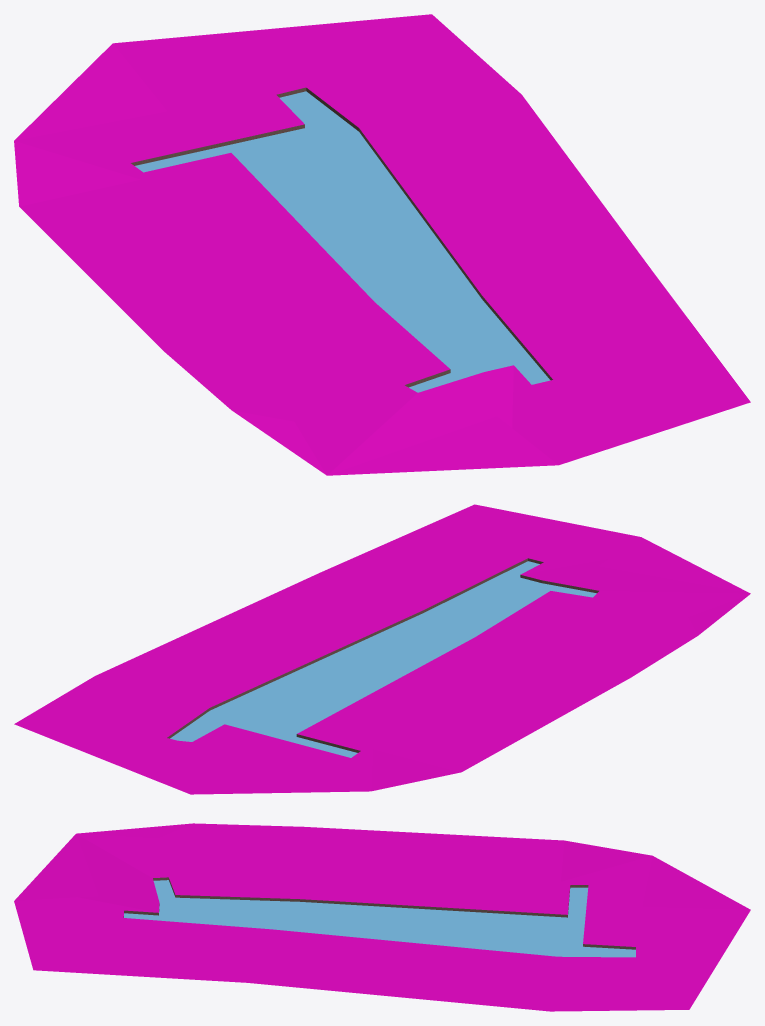
Rendered from laghetto-san-marco.glb.
The picture shows the model from 3 angles, top to bottom: view 1: azimuth 30°, elevation 25°; view 2: azimuth 150°, elevation 25°; view 3: azimuth 270°, elevation 25°; orthographic projection. The views are drawn at different scales.
Parts seen in each view (by area): view 1: Maschera_Holdout, Water, muretto; view 2: Maschera_Holdout, Water, muretto; view 3: Maschera_Holdout, Water, muretto.
Boxes of the visible parts, bbox=[...] form: Maschera_Holdout: bbox=[14, 14, 750, 475]; Water: bbox=[135, 91, 550, 392]; muretto: bbox=[131, 87, 552, 387]; Maschera_Holdout: bbox=[14, 504, 750, 794]; Water: bbox=[170, 561, 596, 757]; muretto: bbox=[167, 558, 598, 752]; Maschera_Holdout: bbox=[14, 823, 750, 1011]; Water: bbox=[124, 880, 635, 957]; muretto: bbox=[123, 877, 635, 949].
Size of the model in its own units: 174 by 7.11 by 284.
Materials: 3 (1 with a texture image).
